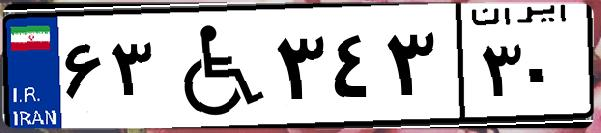0: (525, 38, 570, 115)
3: (270, 28, 330, 110), (385, 28, 445, 110), (475, 38, 525, 113), (110, 28, 158, 98)
4: (330, 28, 385, 110)
6: (57, 26, 110, 100)
ژ (معلولین و جانبازان): (158, 12, 270, 120)
